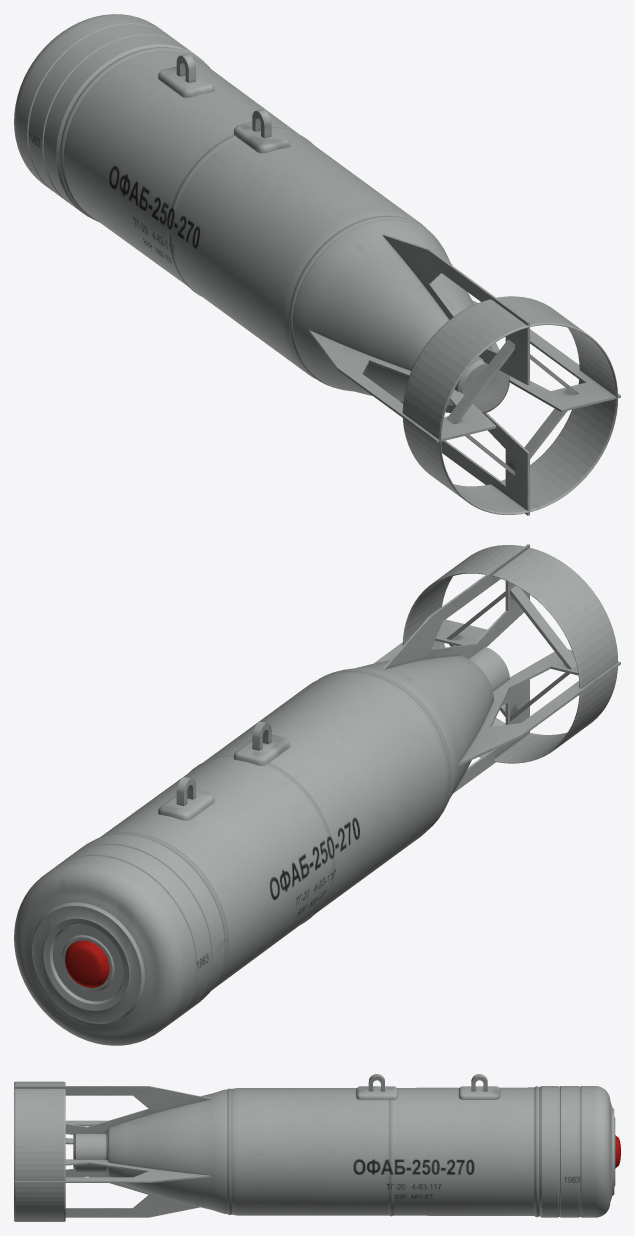
File: w_ofab250.glb
3 views of the same model, one above another, from view 1: azimuth 30°, elevation 25°; view 2: azimuth 150°, elevation 25°; view 3: azimuth 270°, elevation 25° (orthographic). The views are drawn at different scales.
Visible parts, largest first — view 1: body, tail, lug_r, lug_f; view 2: body, tail, fuze, lug_r, lug_f; view 3: body, tail, lug_r, lug_f.
Part boxes in pixels (x1,y1,x2,y2): body: [14, 14, 509, 412]; tail: [309, 234, 620, 515]; lug_r: [234, 109, 289, 153]; lug_f: [158, 54, 214, 97]; body: [14, 647, 509, 1045]; tail: [374, 544, 620, 793]; fuze: [64, 940, 109, 987]; lug_r: [234, 721, 289, 765]; lug_f: [158, 777, 214, 820]; body: [73, 1086, 615, 1217]; tail: [14, 1081, 211, 1221]; lug_r: [356, 1074, 397, 1099]; lug_f: [459, 1074, 499, 1099].
Size of the model in its own units: 0.352 by 0.382 by 1.48.
1 material, 1 textured.
